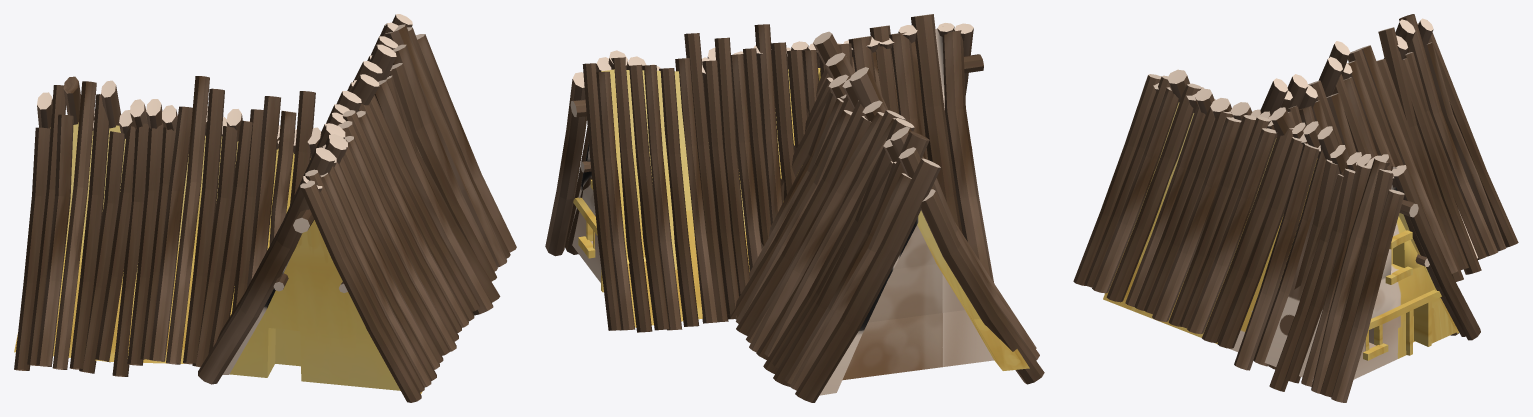
File: house_1.fbx
3 views of the same model, side by side, from view 1: azimuth 30°, elevation 25°; view 2: azimuth 150°, elevation 25°; view 3: azimuth 270°, elevation 25° (orthographic). The views are drawn at different scales.
Visible parts, largest first — view 1: house_1; view 2: house_1; view 3: house_1.
Part boxes in pixels (x1=…): house_1: x1=14, y1=14, x2=516, y2=402; house_1: x1=545, y1=14, x2=1044, y2=402; house_1: x1=1073, y1=14, x2=1518, y2=402.
Size of the model in its own units: 1241 by 643 by 1082.
